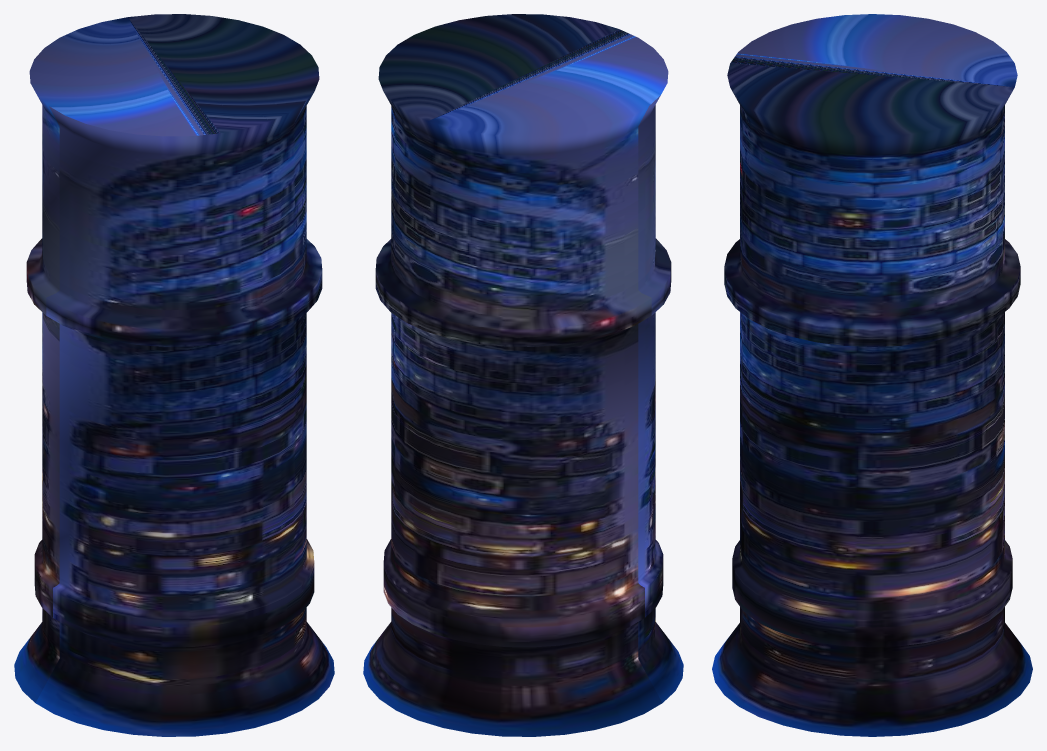
The model's file is tower.fbx.
3 renders of one model, left to right at view 1: azimuth 30°, elevation 25°; view 2: azimuth 150°, elevation 25°; view 3: azimuth 270°, elevation 25°, orthographic.
Visible parts, largest first — view 1: Cylinder; view 2: Cylinder; view 3: Cylinder.
Boxes of the visible parts, x1,y1,x2,y2 form: Cylinder: (14,14,334,736); Cylinder: (363,14,683,736); Cylinder: (712,14,1032,736).
Size of the model in its own units: 1087 by 2219 by 1087.
